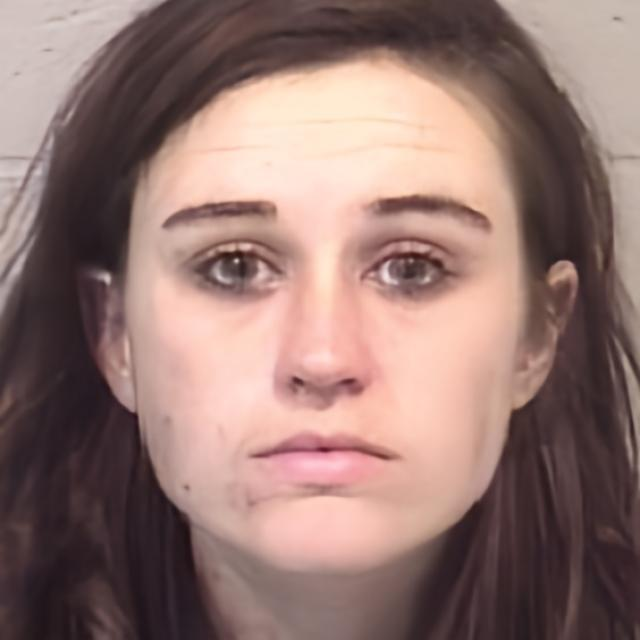sad: (129, 44, 523, 576)
